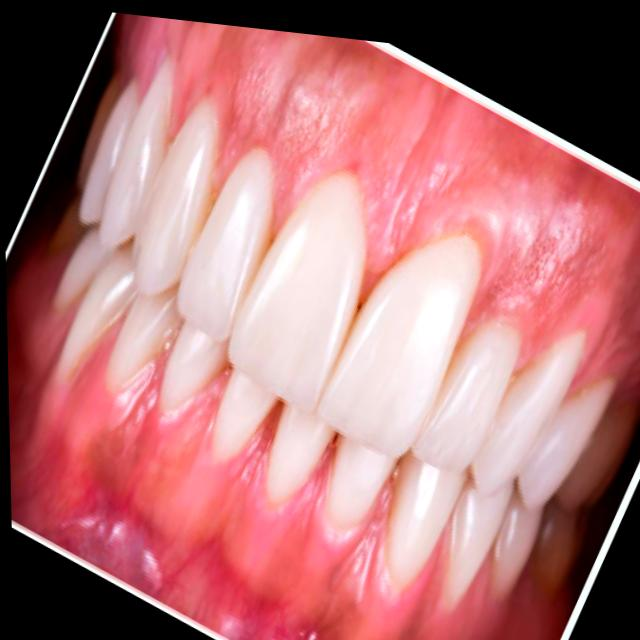gingivitis: (120, 14, 640, 394), (43, 364, 565, 640)
